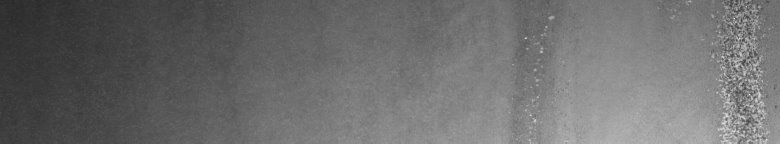hc: (670, 4, 776, 136)
